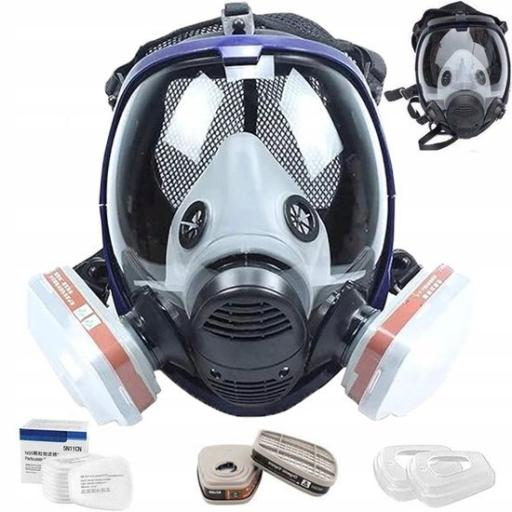mask: (32, 37, 468, 433)
